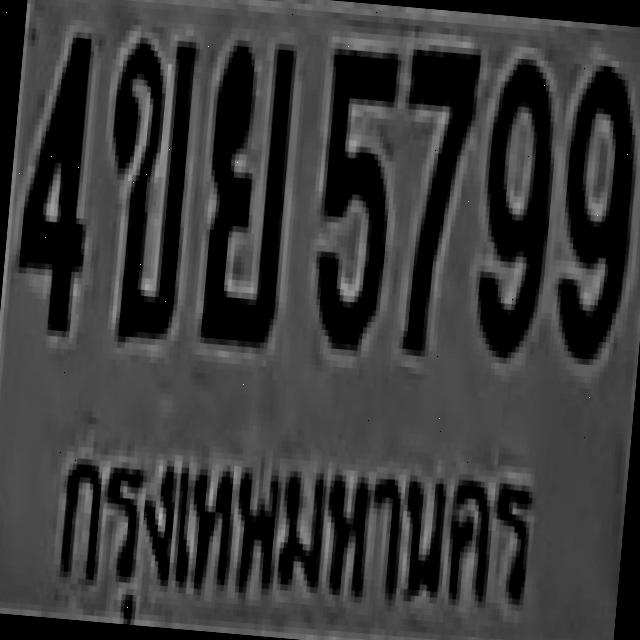11KhorKhai: (90, 32, 194, 337)
4: (8, 25, 97, 328)
43YorYak: (191, 32, 296, 343)
5: (305, 42, 398, 346)
7: (383, 42, 477, 352), (390, 42, 477, 270)
9: (546, 54, 640, 358), (470, 50, 559, 354)
Bangkok: (36, 416, 542, 640)
